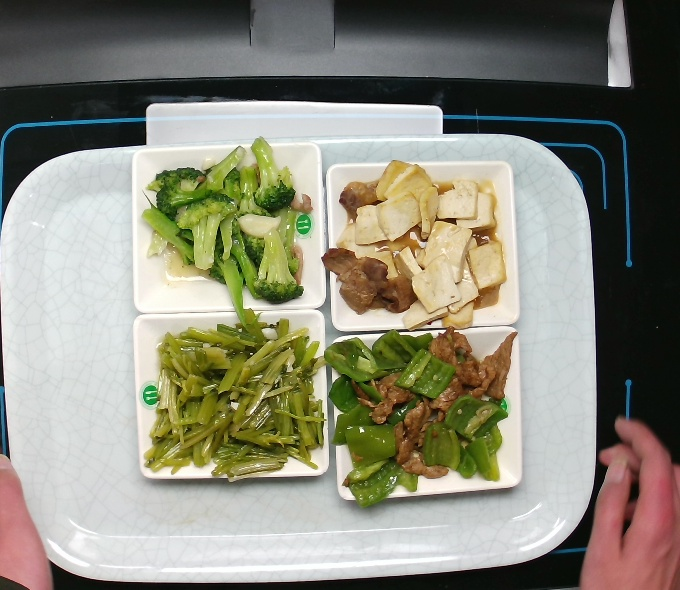wcq-DouFuRouPian: (315, 157, 524, 334)
wcq-QinCai: (149, 320, 321, 486)
wcq-QingJiaoChaoRou: (322, 330, 526, 511)
wcq-XiLanHua: (140, 134, 312, 314)
